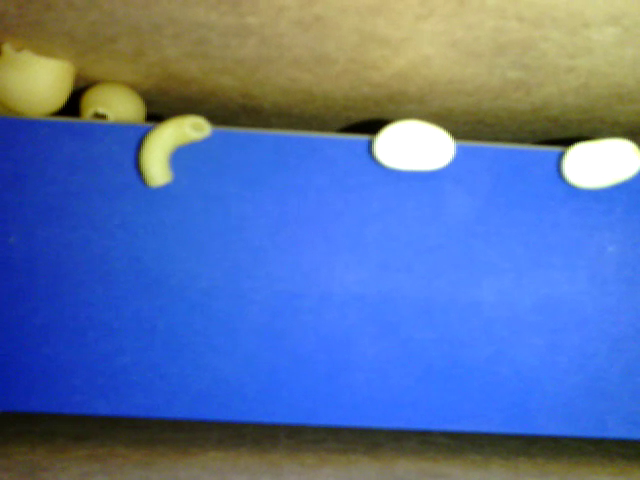elbow: (139, 114, 210, 187)
shell: (1, 43, 75, 115), (80, 83, 145, 122)
